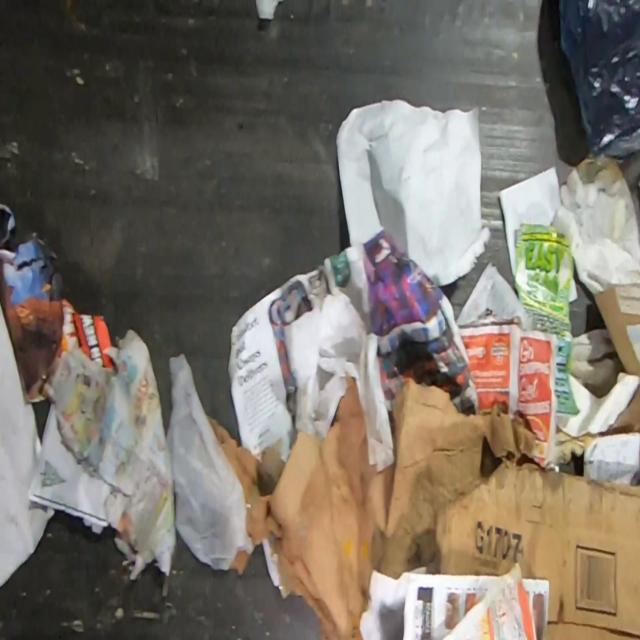cardboard: (367, 378, 640, 640), (206, 376, 378, 640)
soft_plastic: (166, 352, 254, 570), (557, 0, 640, 159)
